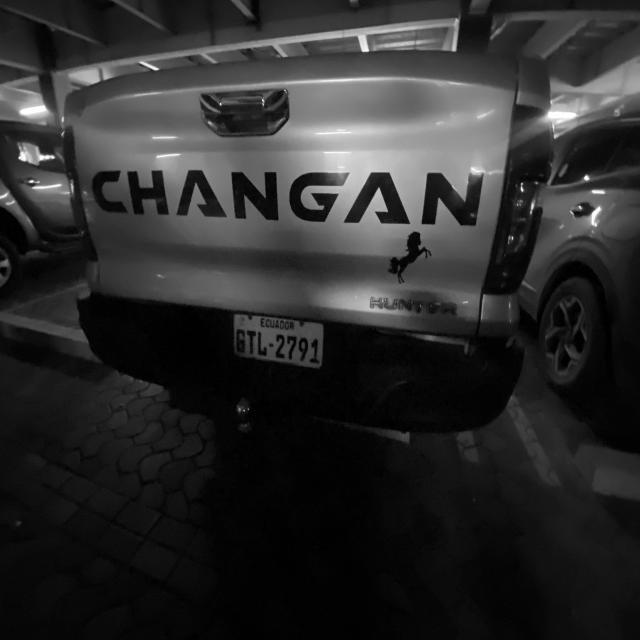Placa: (234, 314, 323, 368)
